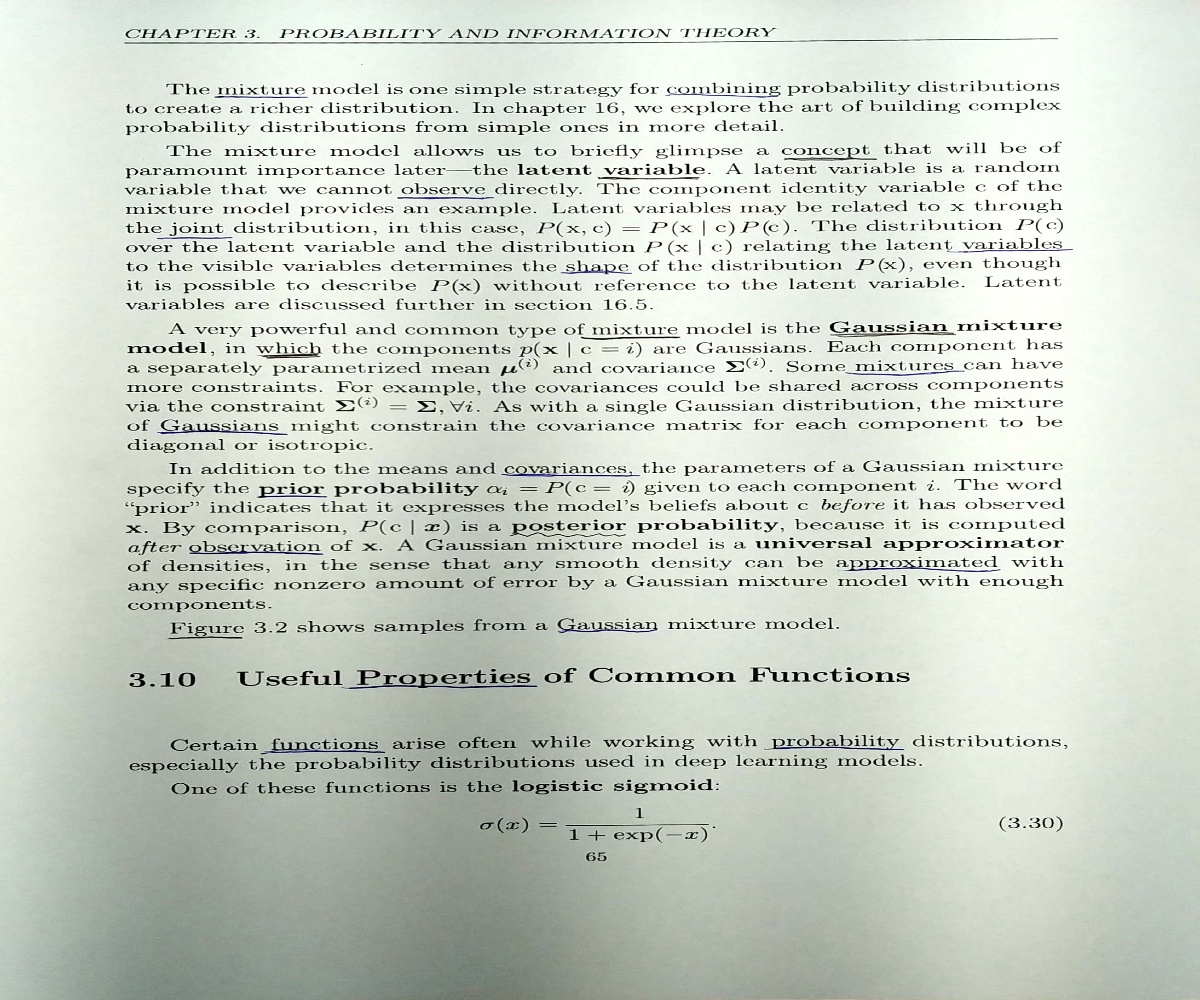underline: (757, 743, 909, 757), (831, 565, 1006, 576), (496, 469, 644, 482), (842, 367, 972, 380), (153, 427, 293, 439), (338, 683, 544, 691), (781, 150, 884, 165), (505, 528, 633, 540), (594, 174, 710, 187), (943, 246, 1084, 256), (824, 329, 961, 339), (665, 91, 783, 102), (187, 549, 327, 558), (254, 746, 390, 755), (577, 332, 686, 343), (211, 92, 313, 102), (554, 628, 664, 637), (254, 350, 326, 363), (395, 194, 504, 202), (164, 634, 253, 643), (557, 267, 635, 276), (156, 236, 239, 244), (252, 494, 331, 502)
